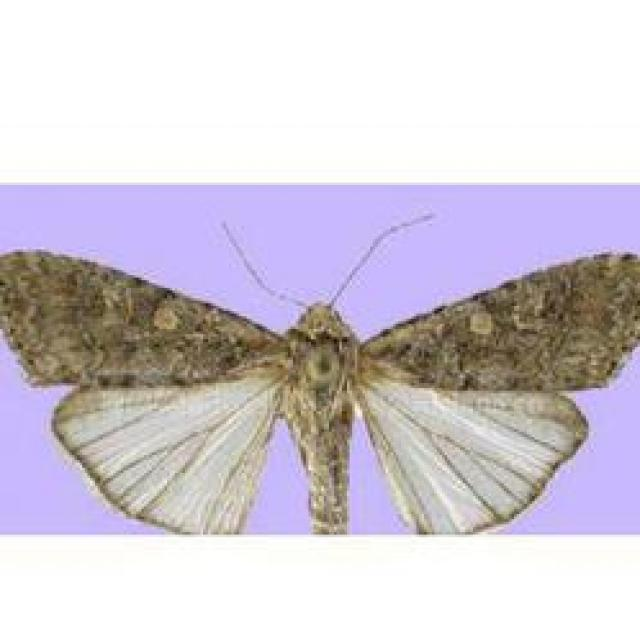BeetArmyWorm-Adult-: (0, 204, 638, 536)
